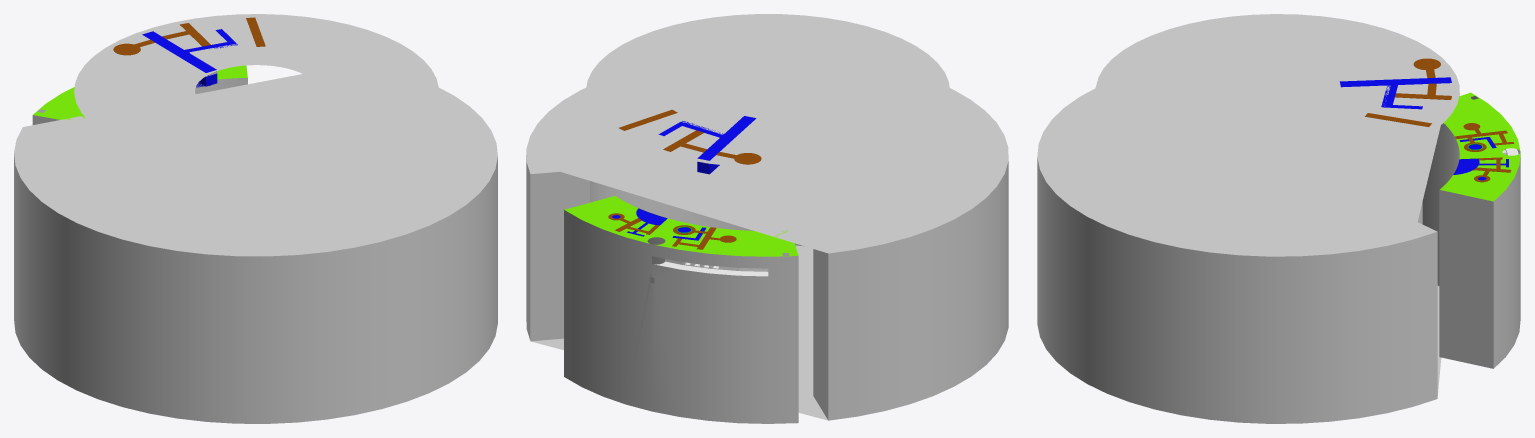
3 views of the same model, side by side, from view 1: azimuth 30°, elevation 25°; view 2: azimuth 150°, elevation 25°; view 3: azimuth 270°, elevation 25° (orthographic).
Parts seen in each view (by area): view 1: Group18, Group1, Group11, Group14; view 2: Group18, Group1, Group11, Group14, Group9; view 3: Group18, Group1, Group11, Group14, Group9.
Boxes of the visible parts, box(x1,y1,x2,y2) form: Group18: box(14, 78, 497, 423); Group1: box(14, 65, 497, 256); Group11: box(74, 14, 438, 168); Group14: box(142, 31, 217, 86); Group18: box(526, 155, 1008, 423); Group1: box(526, 65, 1008, 256); Group11: box(586, 14, 949, 167); Group14: box(697, 116, 756, 174); Group9: box(672, 225, 736, 249); Group18: box(1037, 96, 1520, 423); Group1: box(1037, 65, 1520, 256); Group11: box(1095, 14, 1459, 167); Group14: box(1339, 77, 1451, 87); Group9: box(1455, 123, 1513, 151).
Bounding box in the file's own units: 15885 × 8383 × 15892.
